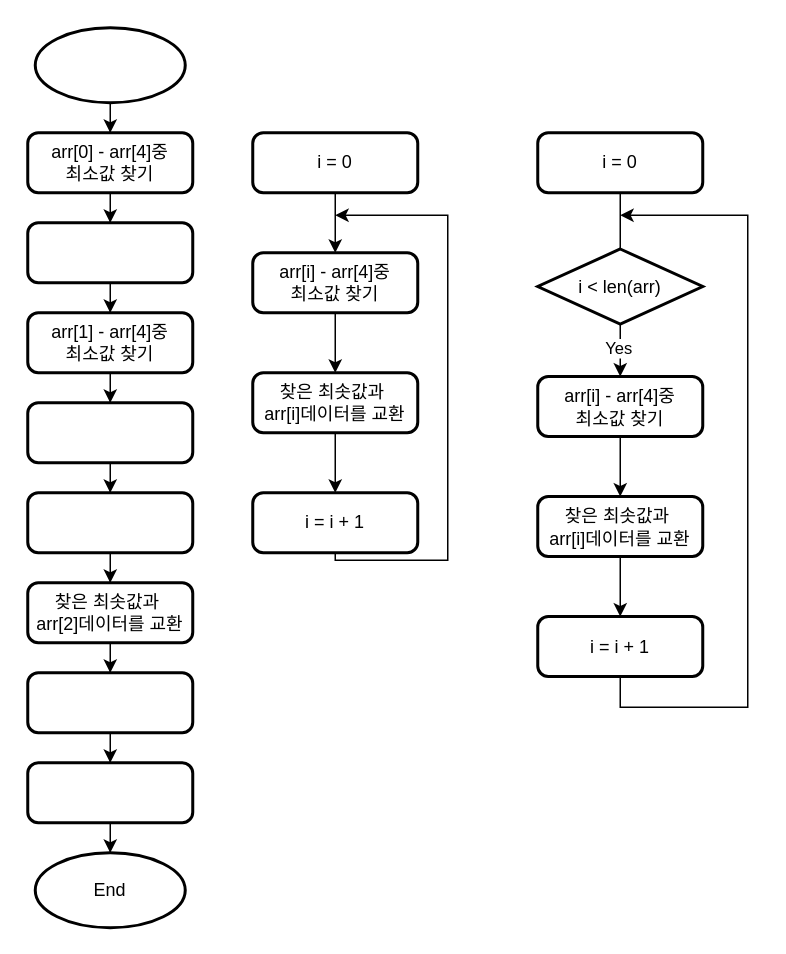
This 786x954 diagram has some shape labels left out. Here are the shapes that lost their labels. From the top down, the centre of each, then its label:
the point at 109,65: Start
the point at 110,252: 찾은 최솟값과 arr[0]데이터를 교환
the point at 110,432: 찾은 최솟값과 arr[1]데이터를 교환
the point at 110,522: arr[2] - arr[4]중 최소값 찾기
the point at 110,702: arr[3] - arr[4]중 최소값 찾기
the point at 110,792: 찾은 최솟값과 arr[3]데이터를 교환
